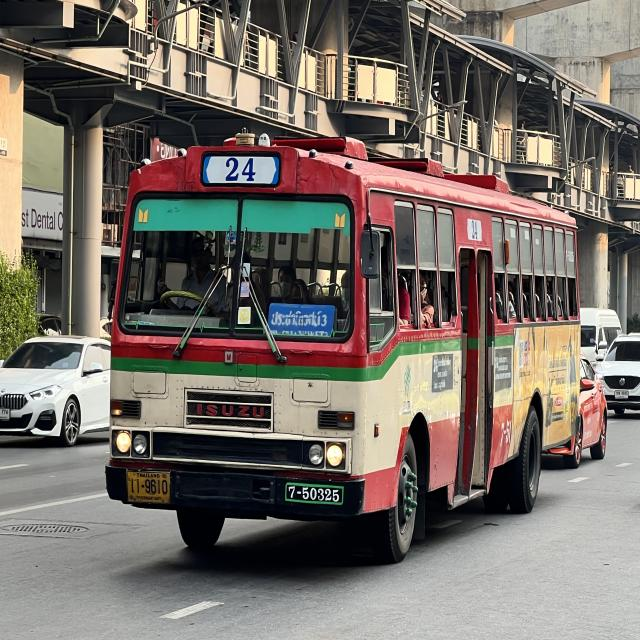BMTA-bus: (99, 125, 586, 569)
Bus-Line-Number: (200, 152, 282, 185)
Destination-Sign-Normal: (269, 302, 336, 340)
